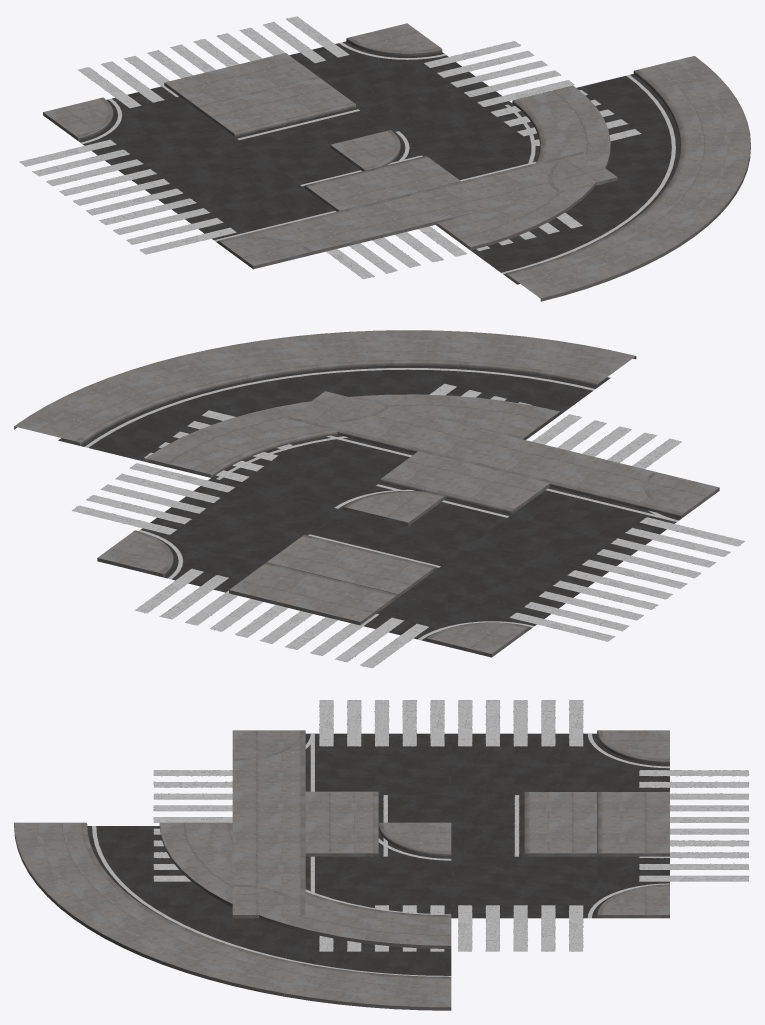
File: street.glb
The picture shows the model from 3 angles, top to bottom: view 1: azimuth 30°, elevation 25°; view 2: azimuth 150°, elevation 25°; view 3: azimuth 270°, elevation 25°; orthographic projection. The views are drawn at different scales.
Parts seen in each view (by area): view 1: Street_4WayIntersection, Street_Curve_4LaneShort, Street_TIntersection, Street_Curve_2Lane, Street_4Lane, Street_Asphalt_9x9, Street_2Lane, Street_Curve_4Lane_Short_Curb, Street_Curve_2Lane_Curb, Street_2Lane_noSidewalk; view 2: Street_4WayIntersection, Street_Curve_4LaneShort, Street_TIntersection, Street_Curve_2Lane, Street_4Lane, Street_Asphalt_9x9, Street_2Lane, Street_Curve_4Lane_Short_Curb, Street_Curve_2Lane_Curb; view 3: Street_4WayIntersection, Street_Curve_4LaneShort, Street_TIntersection, Street_Curve_2Lane, Street_4Lane, Street_Asphalt_9x9, Street_Curve_4Lane_Short_Curb, Street_2Lane, Street_Curve_2Lane_Curb, Street_2Lane_noSidewalk.
Part boxes in pixels (x1=…): Street_4WayIntersection: x1=19, y1=16, x2=627, y2=279; Street_Curve_4LaneShort: x1=330, y1=56, x2=750, y2=301; Street_TIntersection: x1=52, y1=17, x2=641, y2=269; Street_Curve_2Lane: x1=330, y1=85, x2=610, y2=250; Street_4Lane: x1=164, y1=53, x2=439, y2=239; Street_Asphalt_9x9: x1=78, y1=86, x2=268, y2=192; Street_2Lane: x1=199, y1=78, x2=460, y2=211; Street_Curve_4Lane_Short_Curb: x1=505, y1=56, x2=750, y2=300; Street_Curve_2Lane_Curb: x1=437, y1=86, x2=593, y2=222; Street_2Lane_noSidewalk: x1=237, y1=109, x2=422, y2=186; Street_4WayIntersection: x1=72, y1=383, x2=744, y2=668; Street_Curve_4LaneShort: x1=14, y1=330, x2=636, y2=525; Street_TIntersection: x1=92, y1=395, x2=712, y2=667; Street_Curve_2Lane: x1=145, y1=394, x2=560, y2=521; Street_4Lane: x1=229, y1=482, x2=511, y2=625; Street_Asphalt_9x9: x1=363, y1=542, x2=605, y2=641; Street_2Lane: x1=267, y1=451, x2=549, y2=597; Street_Curve_4Lane_Short_Curb: x1=15, y1=330, x2=635, y2=441; Street_Curve_2Lane_Curb: x1=179, y1=396, x2=559, y2=474; Street_4WayIntersection: x1=153, y1=700, x2=749, y2=951; Street_Curve_4LaneShort: x1=14, y1=822, x2=451, y2=1010; Street_TIntersection: x1=232, y1=700, x2=748, y2=951; Street_Curve_2Lane: x1=160, y1=822, x2=451, y2=948; Street_4Lane: x1=378, y1=792, x2=669, y2=856; Street_Asphalt_9x9: x1=451, y1=733, x2=669, y2=794; Street_Curve_4Lane_Short_Curb: x1=14, y1=823, x2=451, y2=1010; Street_2Lane: x1=305, y1=791, x2=596, y2=856; Street_Curve_2Lane_Curb: x1=159, y1=822, x2=451, y2=948; Street_2Lane_noSidewalk: x1=383, y1=795, x2=519, y2=856.
Size of what is drawn, in the model's own units: 30.33 by 0.1506 by 30.33.
Materials: 3 (3 with a texture image).
